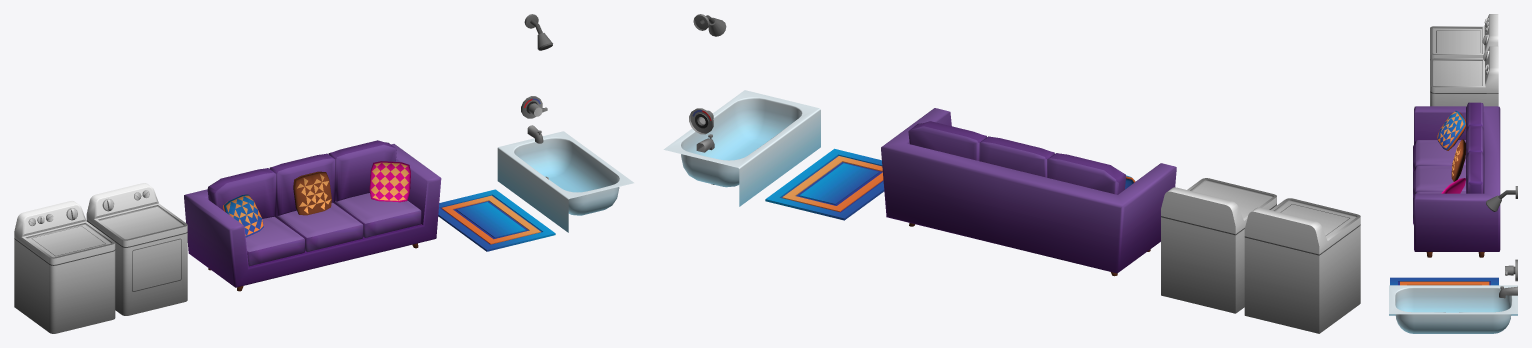
The model's file is Furniture Collection.fbx.
3 views of the same model, side by side, from view 1: azimuth 30°, elevation 25°; view 2: azimuth 150°, elevation 25°; view 3: azimuth 270°, elevation 25° (orthographic). The views are drawn at different scales.
Parts seen in each view (by area): view 1: Couch, Washer, Dryer, Bathtub, Rug; view 2: Couch, Washer, Bathtub, Dryer, Rug, Shower Head; view 3: Couch, Bathtub, Dryer, Washer, Rug, Shower Head.
Boxes of the visible parts, <box> form: Couch: <box>184,140,441,291</box>; Washer: <box>14,201,115,333</box>; Dryer: <box>86,183,187,315</box>; Bathtub: <box>497,96,633,232</box>; Rug: <box>438,189,555,251</box>; Couch: <box>881,108,1176,276</box>; Washer: <box>1244,198,1360,333</box>; Bathtub: <box>663,90,820,206</box>; Dryer: <box>1161,178,1276,313</box>; Rug: <box>765,148,884,220</box>; Shower Head: <box>693,14,726,36</box>; Couch: <box>1413,102,1500,257</box>; Bathtub: <box>1389,259,1517,333</box>; Dryer: <box>1430,46,1498,106</box>; Washer: <box>1430,14,1498,105</box>; Rug: <box>1390,277,1498,285</box>; Shower Head: <box>1486,186,1517,211</box>.
Size of the model in its own units: 1231 by 333 by 270.
Materials: 6 (6 with a texture image).
